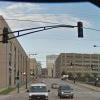Traffic light: (72, 13, 85, 46)
